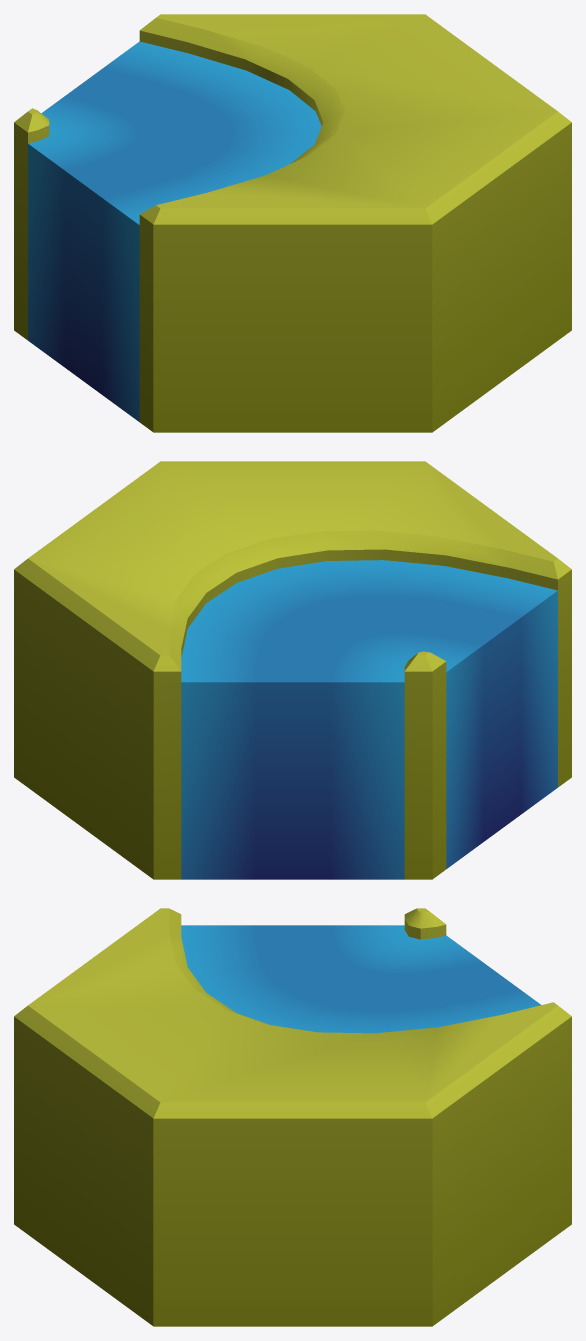
Rendered from hex_river_C.glb.
The picture shows the model from 3 angles, top to bottom: view 1: azimuth 30°, elevation 25°; view 2: azimuth 150°, elevation 25°; view 3: azimuth 270°, elevation 25°; orthographic projection.
Parts seen in each view (by area): view 1: hex_river_C; view 2: hex_river_C; view 3: hex_river_C.
Part boxes in pixels (<box>): hex_river_C: <box>14,14,571,432</box>; hex_river_C: <box>14,461,571,879</box>; hex_river_C: <box>14,908,571,1326</box>.
Bounding box in the file's own units: 2 × 1 × 2.31.
1 material, 1 textured.
